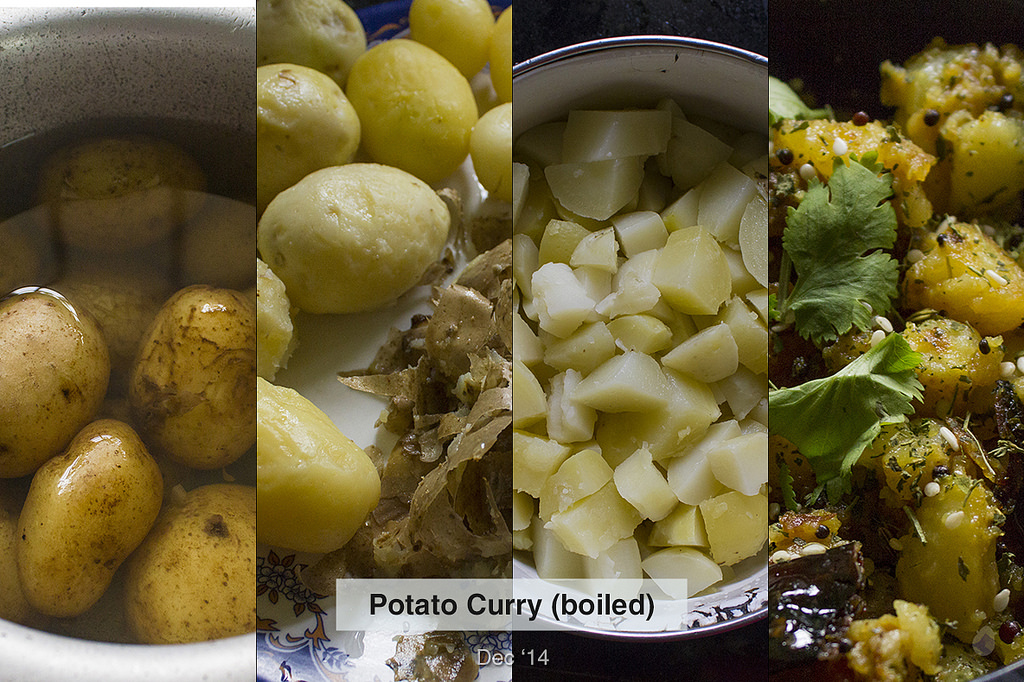boiled potatoes: (525, 119, 755, 602), (1, 240, 251, 637), (261, 16, 492, 296), (259, 158, 446, 304), (257, 381, 381, 595)
